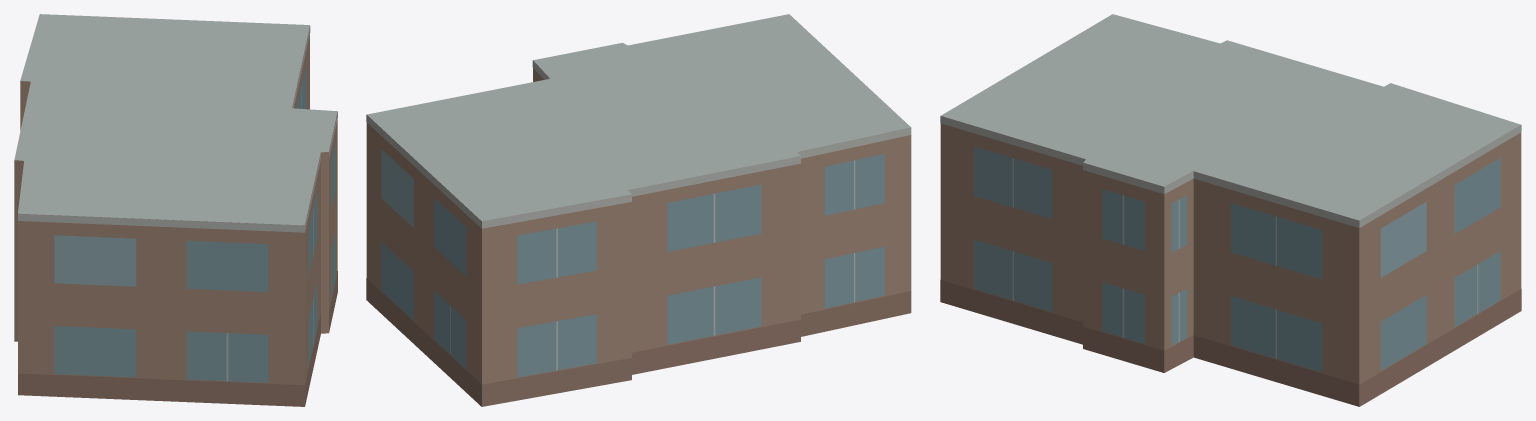
Rendered from survey-upis-33008435.glb.
3 renders of one model, left to right at view 1: azimuth 30°, elevation 25°; view 2: azimuth 150°, elevation 25°; view 3: azimuth 270°, elevation 25°, orthographic. The views are drawn at different scales.
Visible parts, largest first — view 1: survey-upis-33008435.tmp; view 2: survey-upis-33008435.tmp; view 3: survey-upis-33008435.tmp.
Part boxes in pixels (x1,y1,x2,y2): survey-upis-33008435.tmp: (14,14,337,406); survey-upis-33008435.tmp: (366,14,911,406); survey-upis-33008435.tmp: (940,14,1521,406).
Size of the model in its own units: 14.52 by 6.1 by 17.25.
